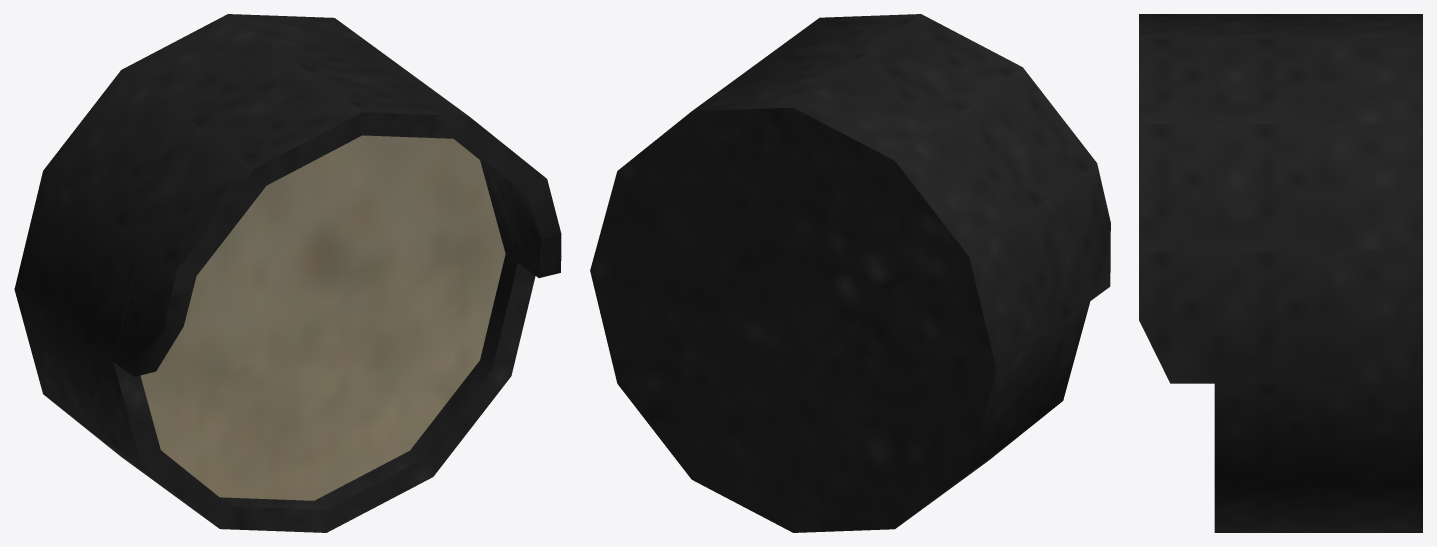
The model's file is gauge_etx_1.obj.
The picture shows the model from 3 angles, left to right: view 1: azimuth 30°, elevation 25°; view 2: azimuth 150°, elevation 25°; view 3: azimuth 270°, elevation 25°; orthographic projection. The views are drawn at different scales.
Visible parts, largest first — view 1: gauge_etx_1; view 2: gauge_etx_1; view 3: gauge_etx_1.
Boxes of the visible parts, left/top/right/bottom form: gauge_etx_1: left=14, top=14, right=561, bottom=532; gauge_etx_1: left=590, top=14, right=1110, bottom=532; gauge_etx_1: left=1139, top=14, right=1422, bottom=532.
Size of the model in its own units: 0.2 by 0.2 by 0.109.
